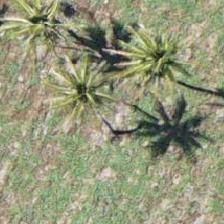coconut_tree: (109, 55, 199, 145), (17, 0, 107, 68)
